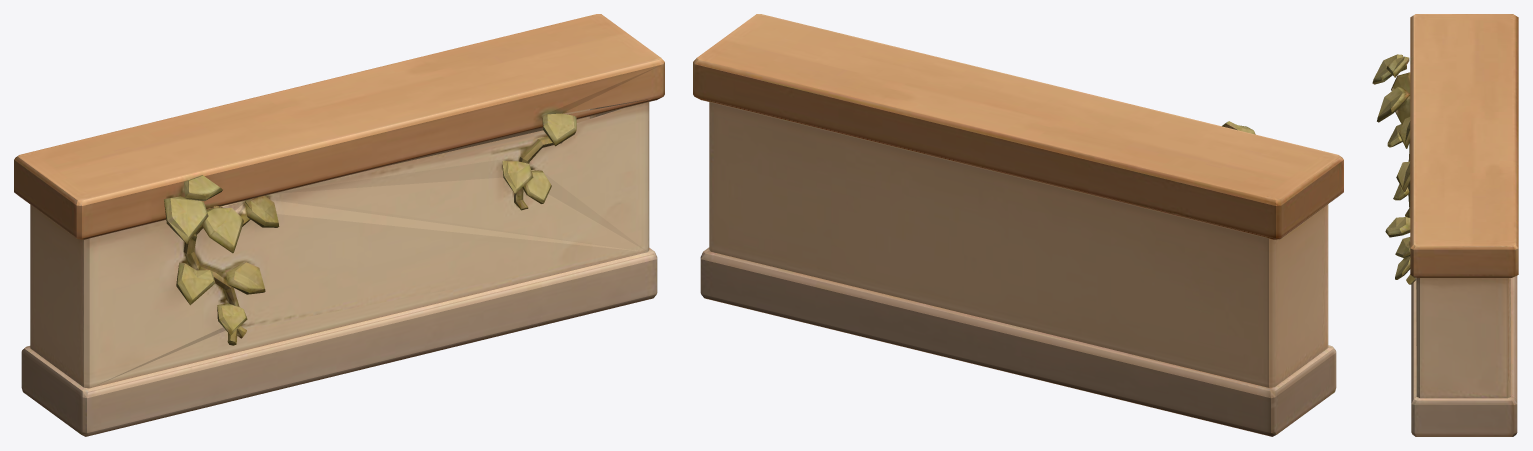
Rendered from gardenwall-C2Lg_Aq7.glb.
3 renders of one model, left to right at view 1: azimuth 30°, elevation 25°; view 2: azimuth 150°, elevation 25°; view 3: azimuth 270°, elevation 25°, orthographic. The views are drawn at different scales.
Parts seen in each view (by area): view 1: tripo_node_f05c8842-8979-425b-8714-e9678dcf91b6; view 2: tripo_node_f05c8842-8979-425b-8714-e9678dcf91b6; view 3: tripo_node_f05c8842-8979-425b-8714-e9678dcf91b6.
Boxes of the visible parts, bbox=[...] form: tripo_node_f05c8842-8979-425b-8714-e9678dcf91b6: bbox=[14, 14, 664, 436]; tripo_node_f05c8842-8979-425b-8714-e9678dcf91b6: bbox=[693, 14, 1343, 436]; tripo_node_f05c8842-8979-425b-8714-e9678dcf91b6: bbox=[1372, 14, 1518, 436].
Bounding box in the file's own units: 0.9767 × 0.3804 × 0.258.
Materials: 1 (1 with a texture image).
